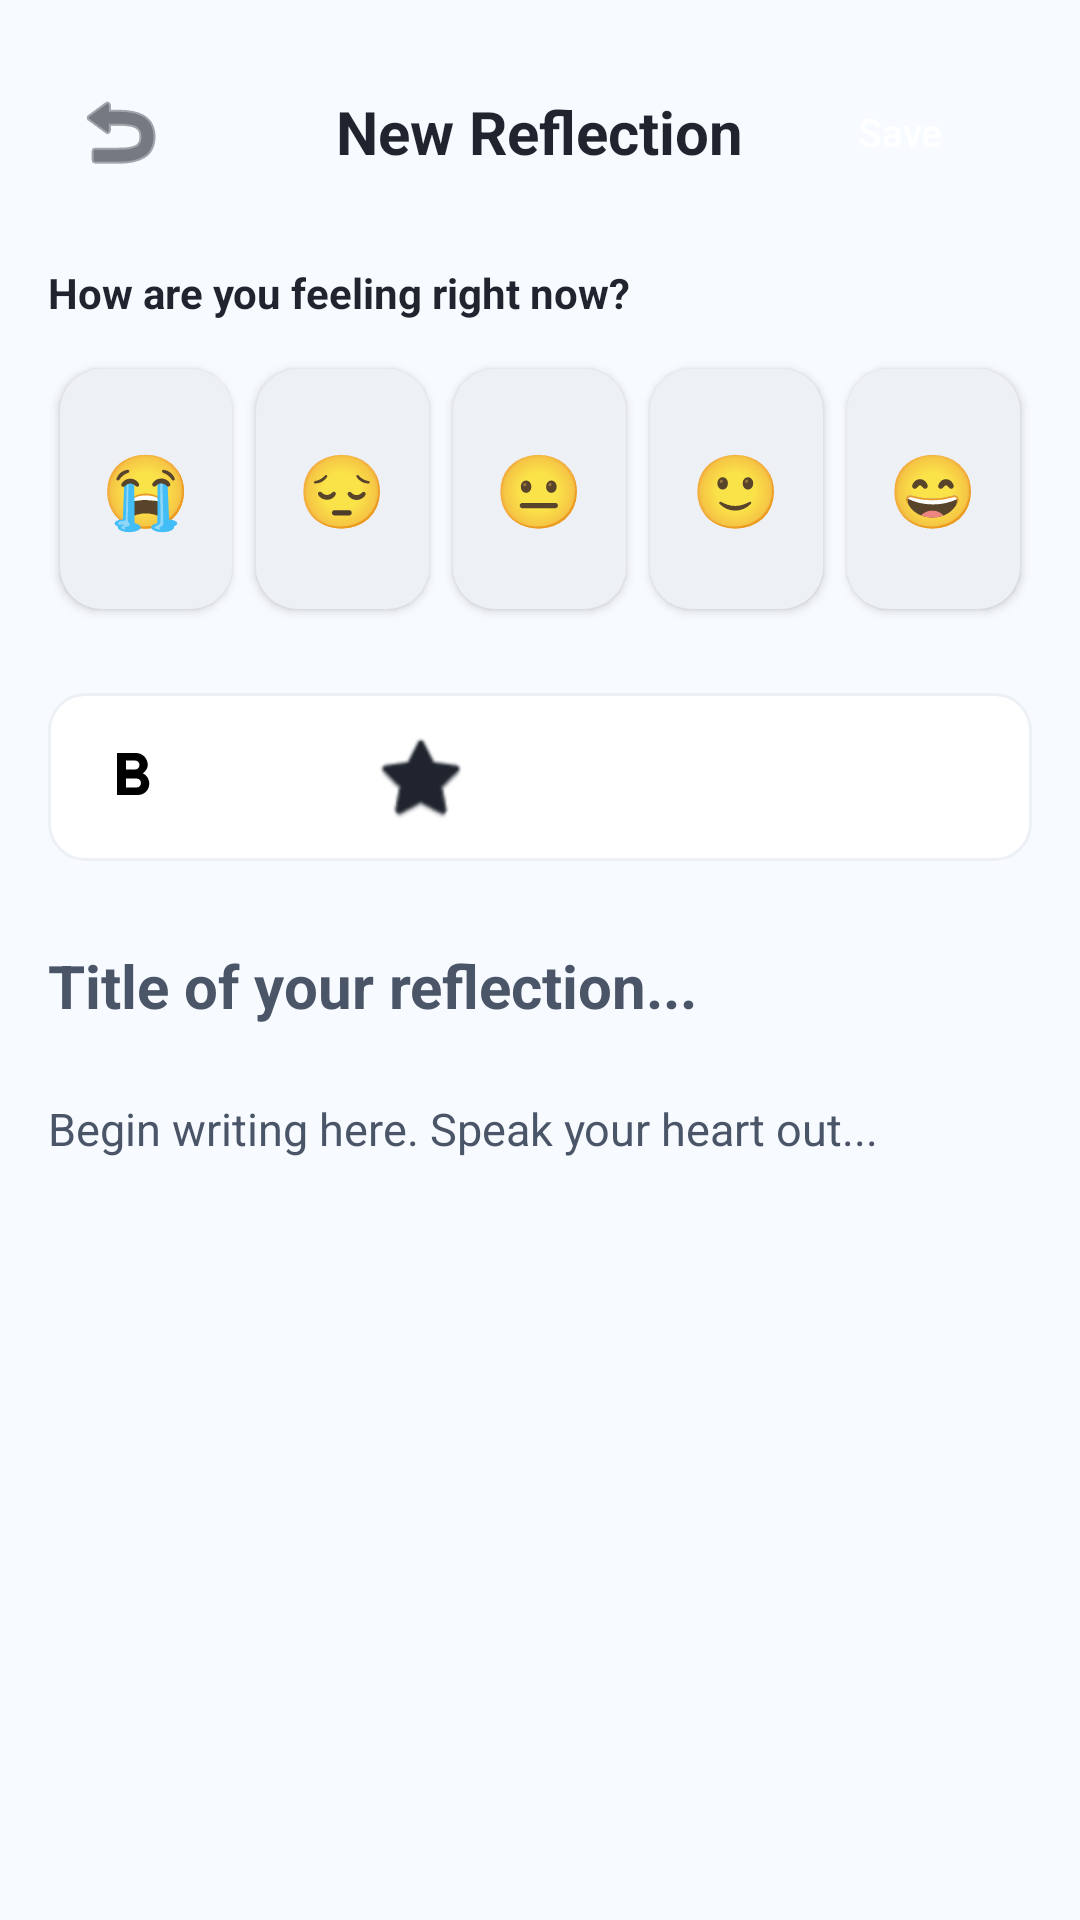

Icon bounding boxes for this 1080w x 1920h phone screenshot, format (x1, y1, x2, y2):
Back: (87, 101, 156, 164)
Bold: (117, 753, 150, 795)
